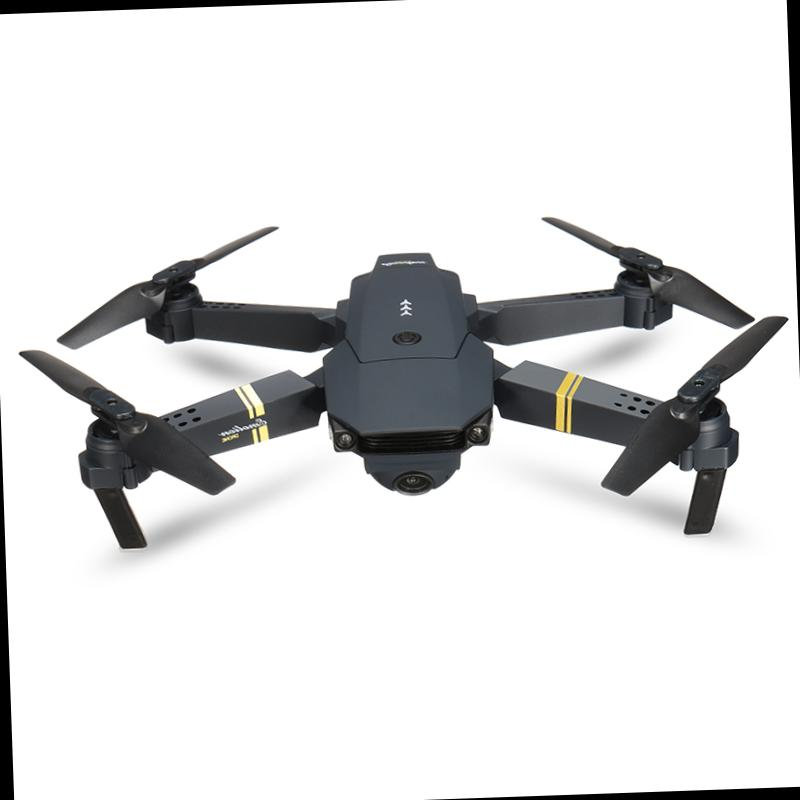drone: (6, 195, 782, 579)
